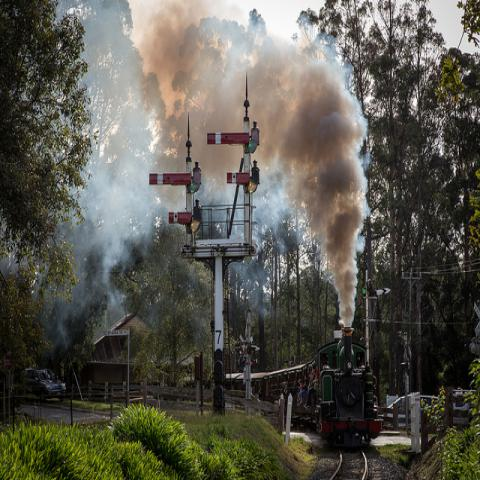car: (387, 395, 440, 428), (16, 367, 66, 398)
